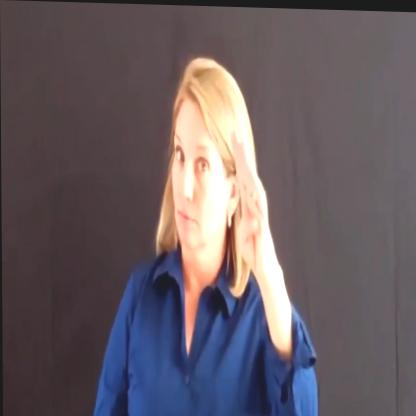Hello: (165, 55, 291, 342)
